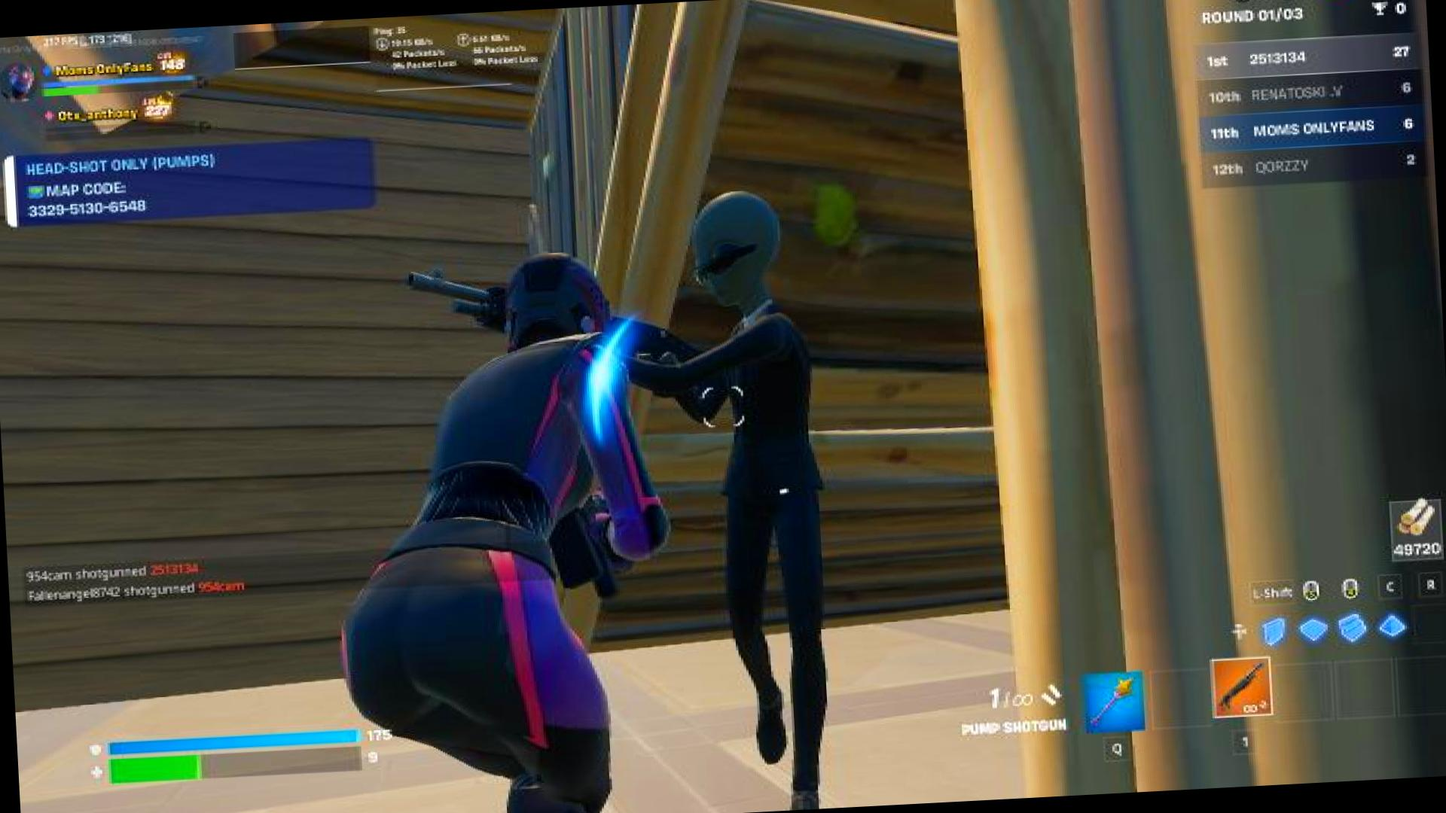player: (657, 179, 877, 813)
